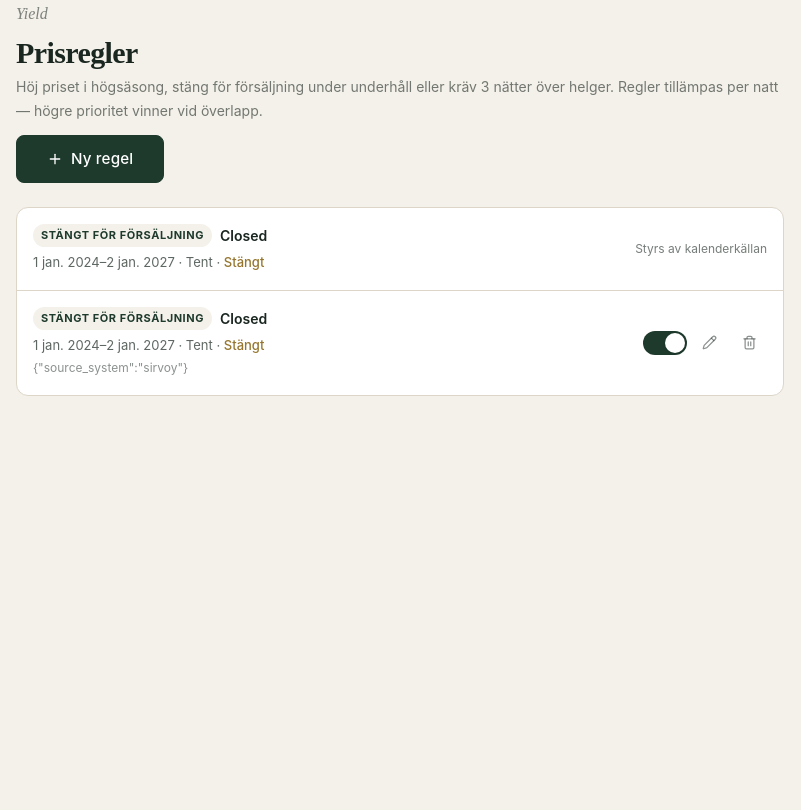
it: preserves ordinary or unrecognized notes in the list, editor and save: {"source_system":"sirvoy"}
Later steps or results of the test are not shown.
Expected: the text "{\"source_system\":\"sirvoy\"}" is shown, [33,360,188,375]
What coordinates should you click on to do the following:
click the button titled "Redigera"
I would click on:
 (709, 343)
Its box is [691,325,727,361].
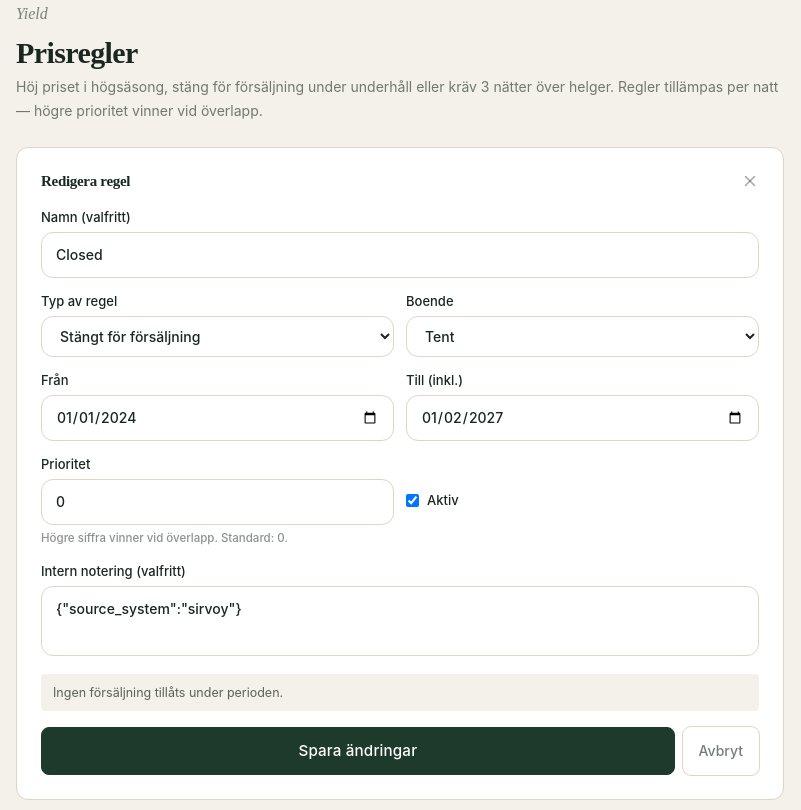
Now the text box labelled "Intern notering (valfritt)" holds "{\"source_system\":\"sirvoy\"}", box [41,586,759,656]
